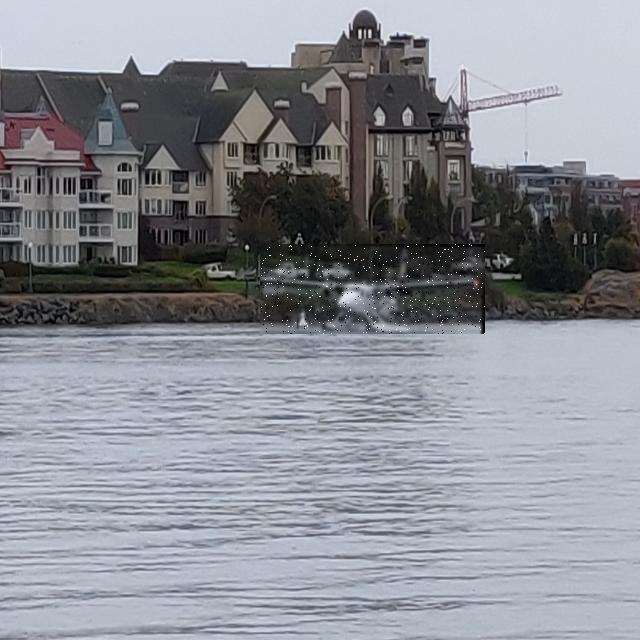aircraft: (260, 244, 485, 334)
mark: (297, 309, 308, 329)
